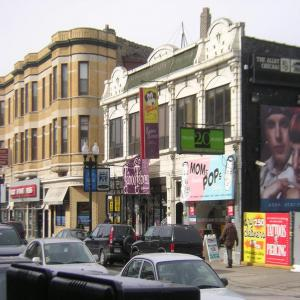Vehicle-registration-plate: (116, 249, 122, 255)
